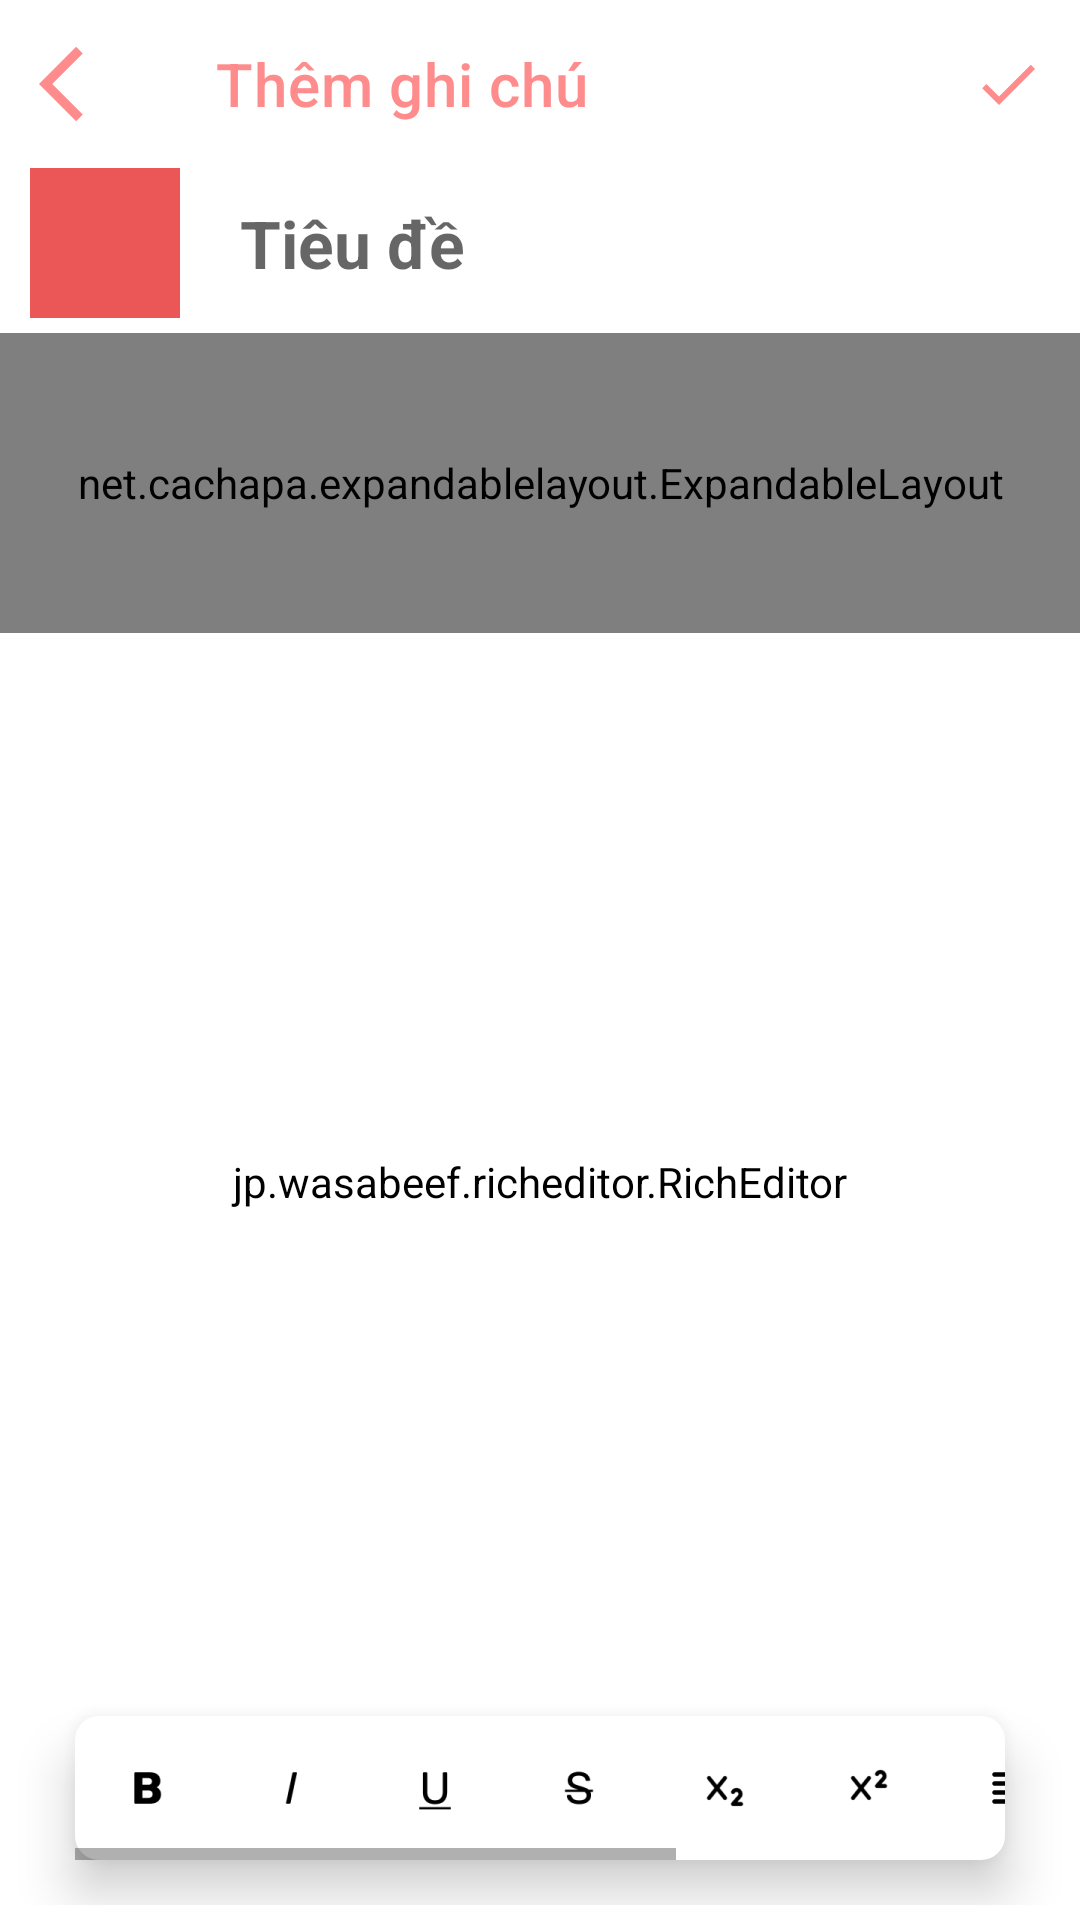

Named icons in this screenshot (1080 × 1920) and their centers, [x,y]:
subscript: [725,1791]
superscript: [869,1784]
